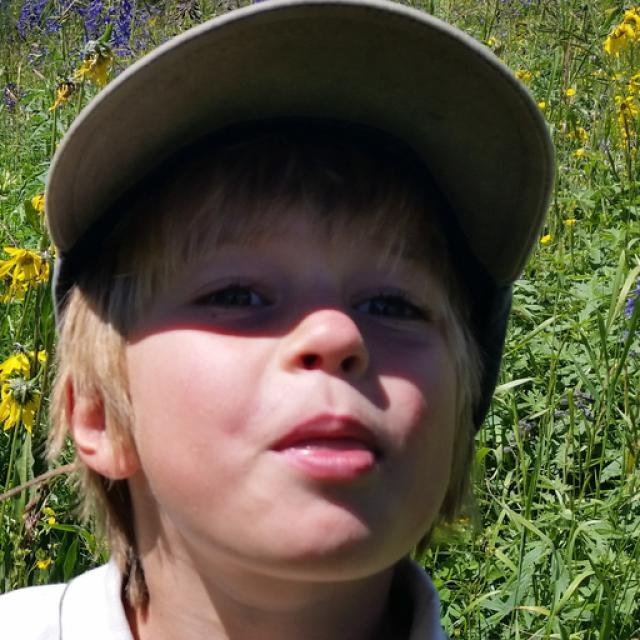happy: (125, 193, 460, 572)
